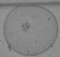small: (21, 22, 30, 32)
